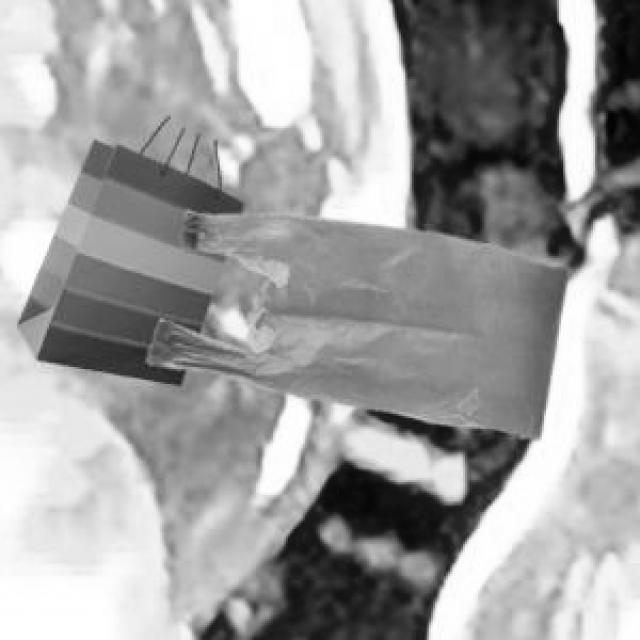paper: (13, 137, 239, 380)
